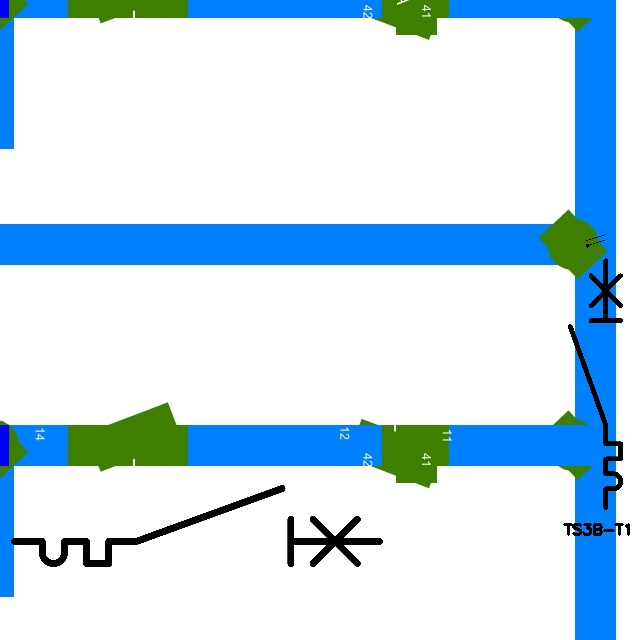interruptor_termomagnetico: (5, 479, 389, 573), (564, 254, 627, 514)
